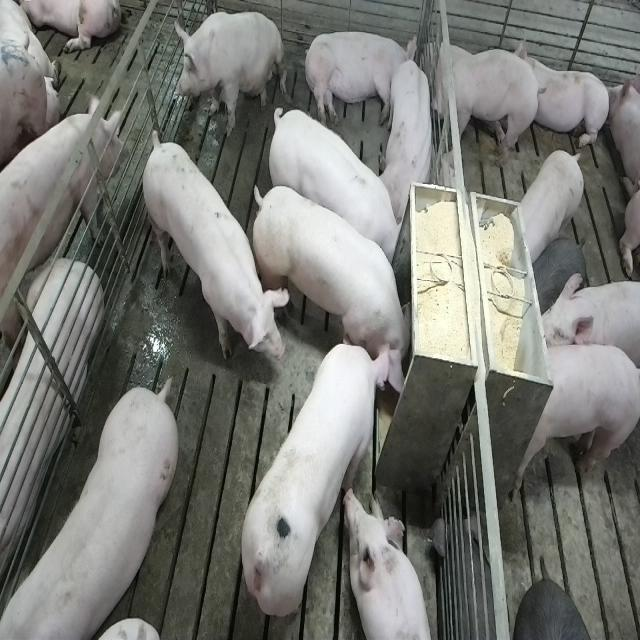Feeding: (240, 336, 392, 620), (254, 178, 420, 393)
Lateral_lying: (0, 261, 101, 603), (301, 26, 418, 127)
Sitting: (174, 8, 286, 138)
Standing: (0, 382, 176, 640), (137, 129, 284, 386), (0, 97, 128, 343), (269, 101, 403, 265), (514, 343, 639, 496), (422, 41, 543, 173), (538, 275, 640, 416), (515, 150, 587, 264)
Sternal_lying: (345, 488, 433, 640), (522, 38, 612, 152), (379, 52, 436, 222)
